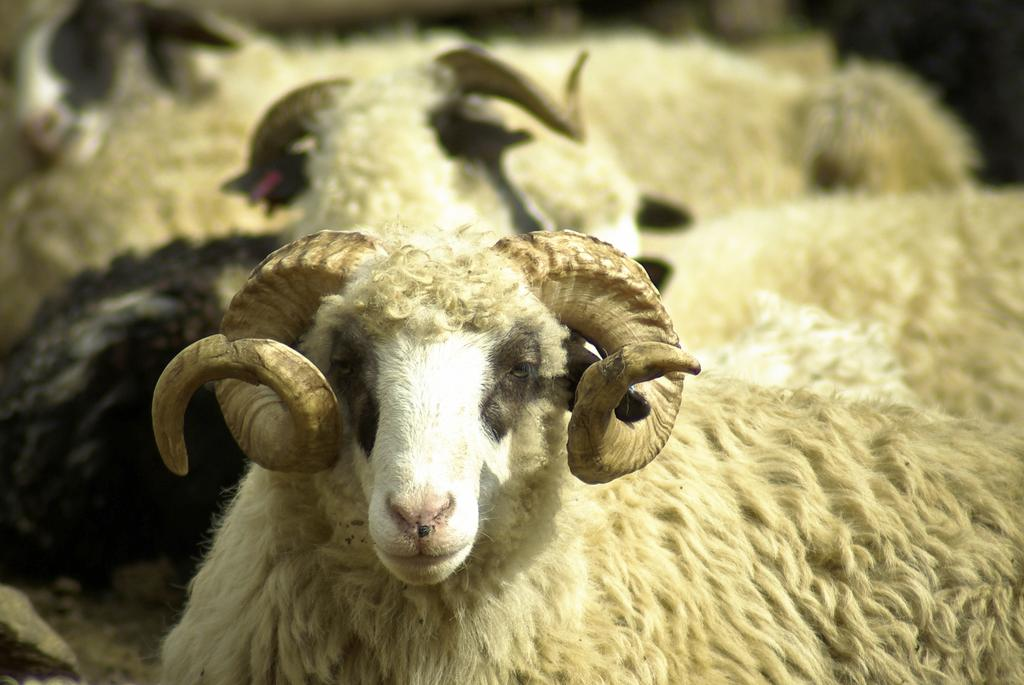Sheep: (143, 221, 1024, 685), (0, 46, 605, 642), (0, 0, 833, 225)
